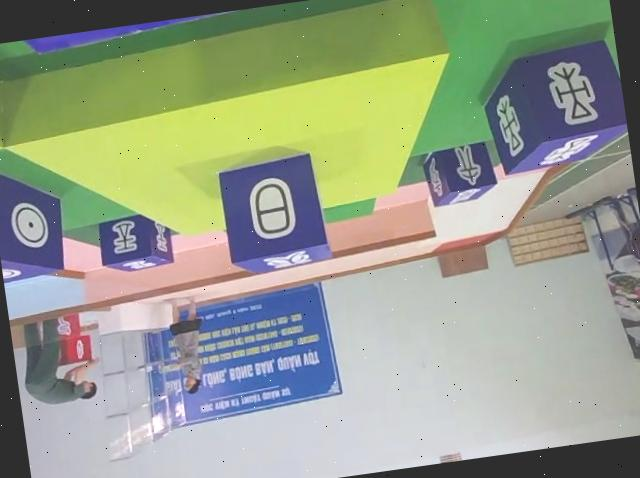R2 Fake Blue: (216, 148, 334, 275), (417, 140, 497, 208)
R2 Real Blue: (477, 35, 632, 176), (0, 162, 69, 281), (95, 207, 176, 274)
